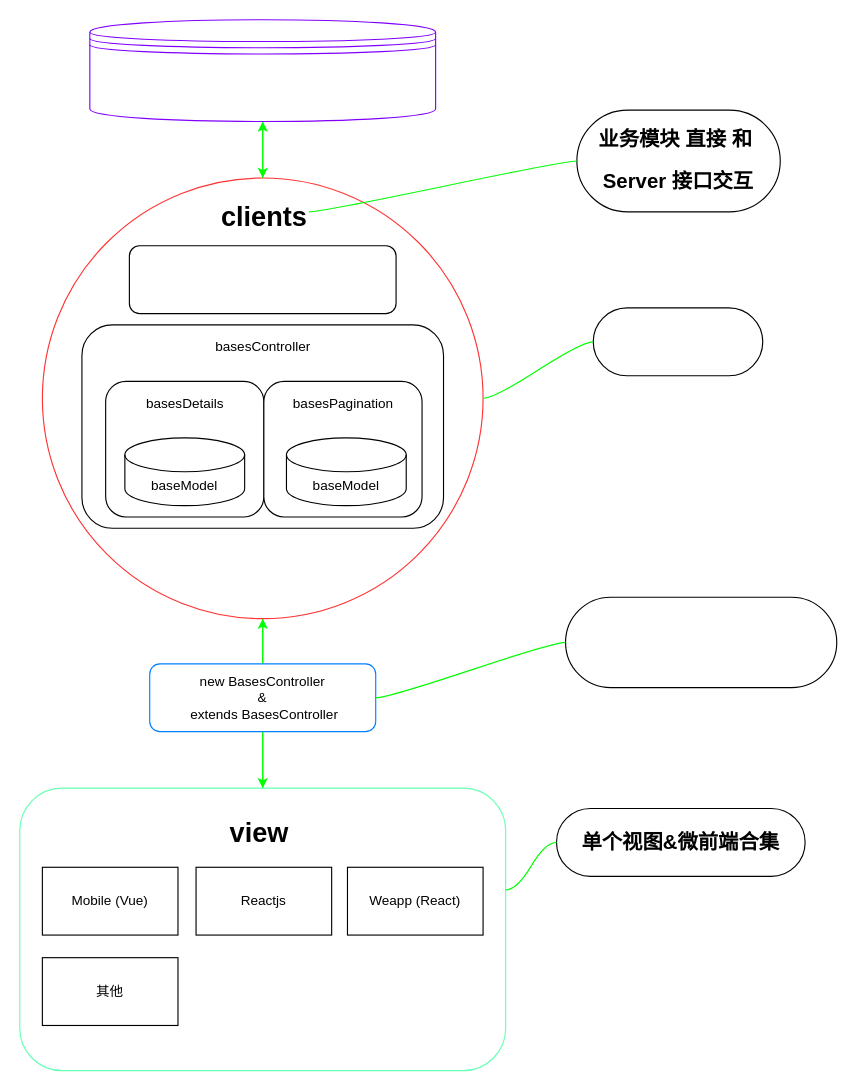
The diagram is 857 pixels wide and 1090 high, and some of its shapes have lost their labels. Each missing label, with the box of its shape:
helpers | enums | apis: (128, 245, 396, 314)
Server: (89, 19, 436, 121)
业务代码分离: (592, 307, 763, 376)
通过继承或者直接实例化 视图 通过 调用对应 方法操作&获取数据: (564, 596, 837, 688)
